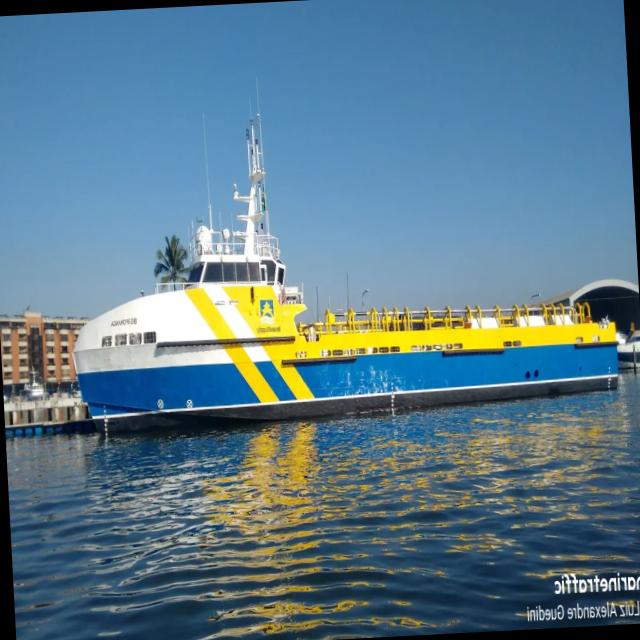Offshore: (73, 121, 617, 430)
